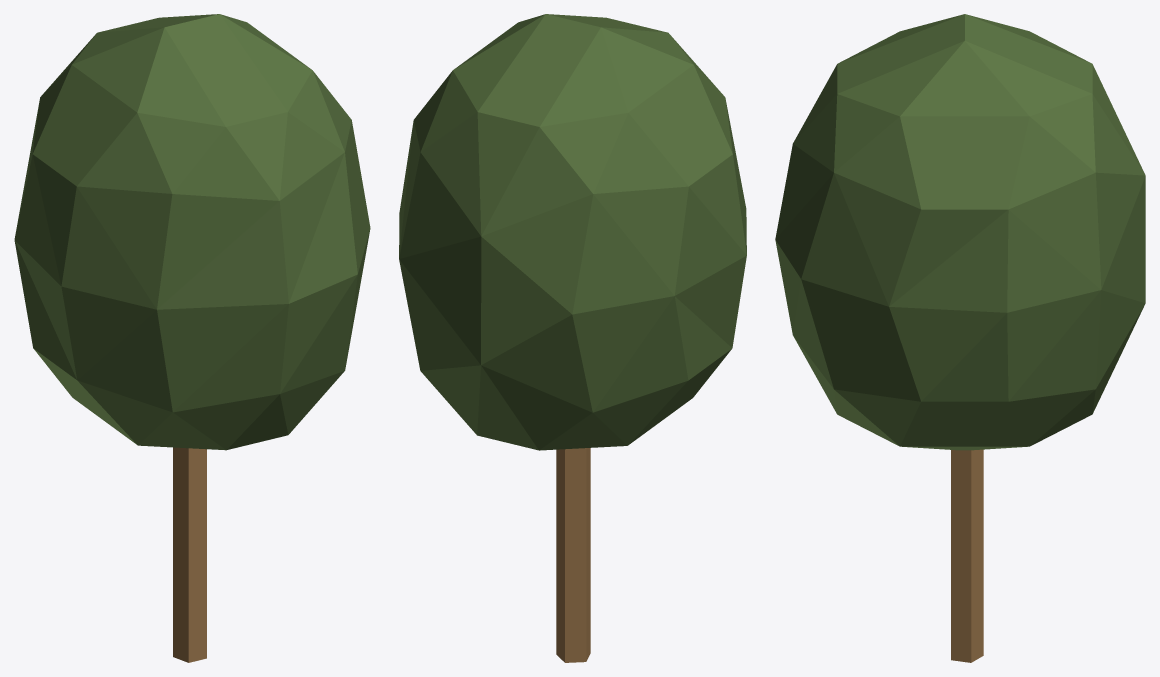
File: tree_06.fbx
The picture shows the model from 3 angles, left to right: view 1: azimuth 30°, elevation 25°; view 2: azimuth 150°, elevation 25°; view 3: azimuth 270°, elevation 25°; orthographic projection.
Visible parts, largest first — view 1: tree_06; view 2: tree_06; view 3: tree_06.
Part boxes in pixels (bbox=[...]): tree_06: bbox=[14, 14, 370, 662]; tree_06: bbox=[399, 14, 746, 662]; tree_06: bbox=[775, 14, 1145, 662].
Bounding box in the file's own units: 254 × 270 × 506.
